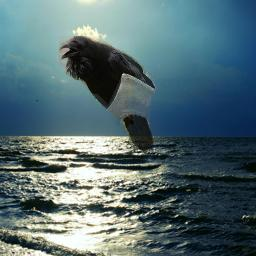Crow: (59, 36, 156, 154)
